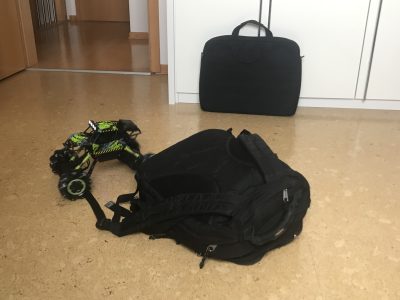remote control car: (47, 117, 160, 201)
